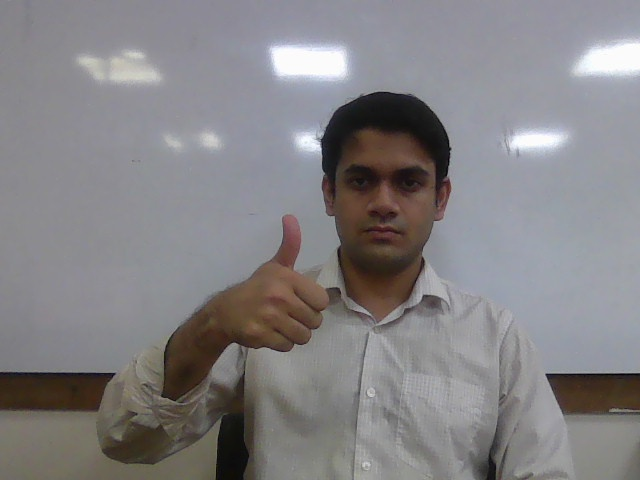Bhalo: (221, 213, 330, 353)
